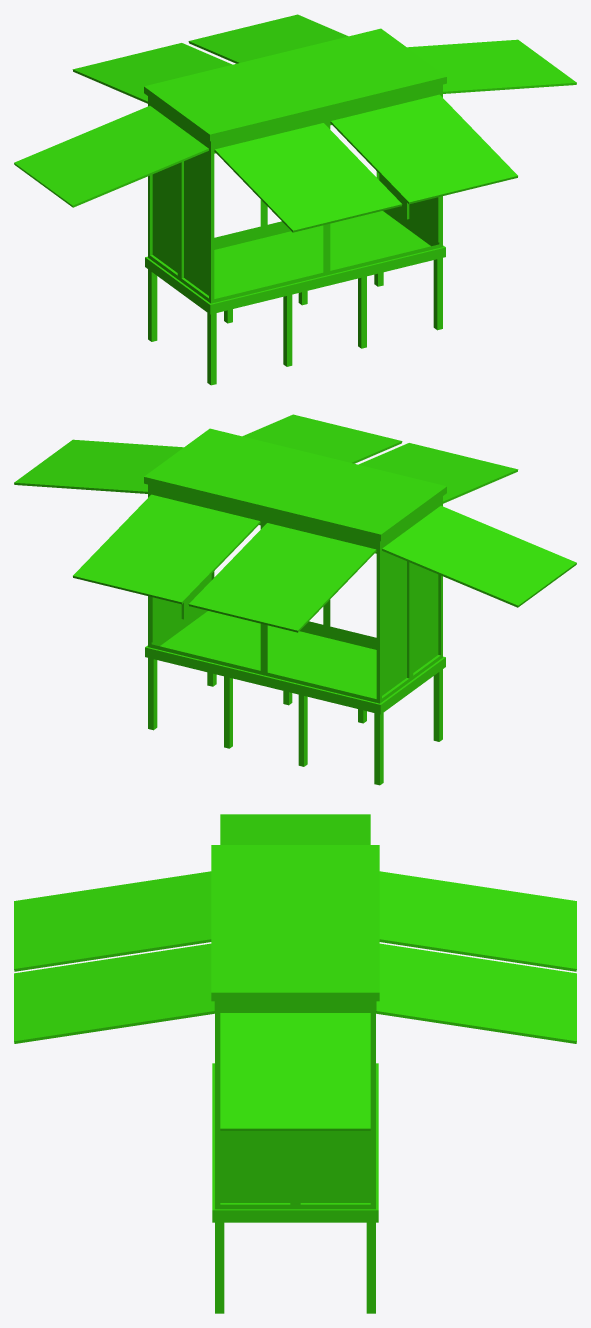
File: mobilePantry_collisionSetup.fbx
3 renders of one model, top to bottom at view 1: azimuth 30°, elevation 25°; view 2: azimuth 150°, elevation 25°; view 3: azimuth 270°, elevation 25°, orthographic. The views are drawn at different scales.
Parts seen in each view (by area): view 1: collisionCube.383, collisionCube.382, collisionCube.384, collisionConvex.697, collisionConvex.698, collisionConvex.699, collisionConvex, collisionConvex.700, collisionConvex.701, collisionCube.391, collisionCube.392, collisionCube.389 (+2 smaller); view 2: collisionCube.383, collisionCube.382, collisionCube.384, collisionConvex.701, collisionConvex.700, collisionConvex.699, collisionConvex, collisionConvex.698, collisionConvex.697, collisionCube.387, collisionCube.388, collisionCube.385 (+2 smaller); view 3: collisionCube.383, collisionConvex, collisionCube.382, collisionConvex.697, collisionConvex.701, collisionConvex.698, collisionConvex.700, collisionConvex.699, collisionCube.384, collisionCube.385, collisionCube.389.
Part boxes in pixels (box(x1,y1,x2,y2)): collisionCube.383: box(144, 28, 446, 141); collisionCube.382: box(148, 84, 442, 303); collisionCube.384: box(145, 209, 445, 314); collisionConvex.697: box(330, 94, 517, 204); collisionConvex.698: box(214, 123, 402, 232); collisionConvex.699: box(14, 105, 208, 207); collisionConvex: box(407, 39, 576, 93); collisionConvex.700: box(72, 43, 232, 103); collisionConvex.701: box(188, 14, 348, 63); collisionCube.391: box(207, 313, 216, 385); collisionCube.392: box(283, 294, 292, 366); collisionCube.389: box(433, 258, 442, 330); collisionCube.383: box(144, 428, 446, 541); collisionCube.382: box(148, 484, 442, 703); collisionCube.384: box(145, 609, 445, 714); collisionConvex.701: box(73, 494, 260, 604); collisionConvex.700: box(188, 523, 376, 632); collisionConvex.699: box(382, 505, 576, 607); collisionConvex: box(14, 439, 183, 493); collisionConvex.698: box(358, 443, 518, 503); collisionConvex.697: box(242, 414, 402, 463); collisionCube.387: box(374, 713, 383, 785); collisionCube.388: box(298, 694, 307, 766); collisionCube.385: box(148, 658, 157, 730); collisionCube.383: box(211, 845, 379, 1001); collisionConvex: box(220, 1013, 370, 1130); collisionCube.382: box(215, 1001, 375, 1209); collisionConvex.697: box(14, 943, 214, 1043); collisionConvex.701: box(376, 943, 576, 1043); collisionConvex.698: box(14, 871, 211, 971); collisionConvex.700: box(379, 871, 576, 971); collisionConvex.699: box(220, 814, 370, 844); collisionCube.384: box(212, 1063, 378, 1222); collisionCube.385: box(366, 1222, 375, 1313); collisionCube.389: box(215, 1222, 224, 1313).
Bounding box in the file's own units: 484 × 232 × 367.
